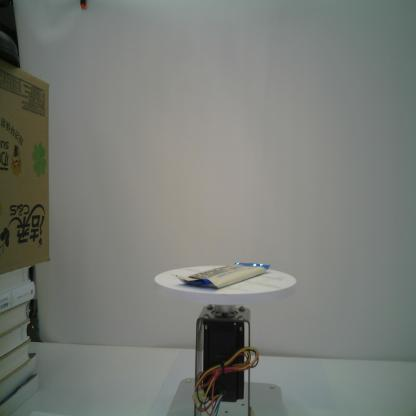Chocolate: (174, 259, 272, 291)
